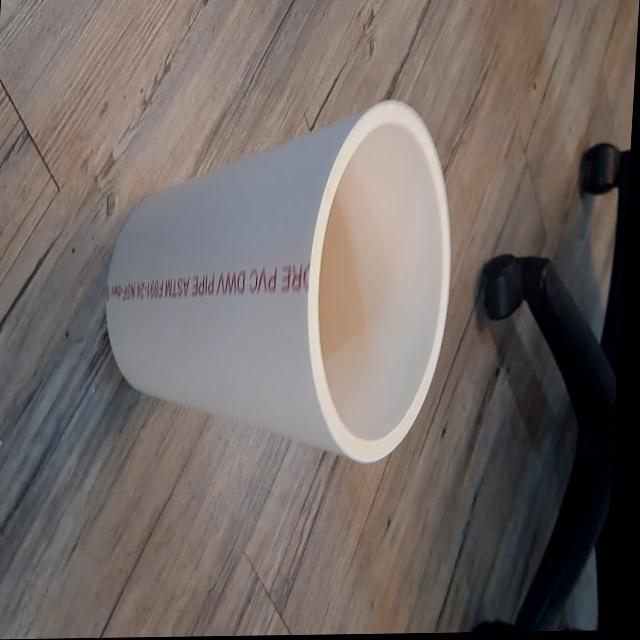CORAL: (84, 66, 469, 502)
